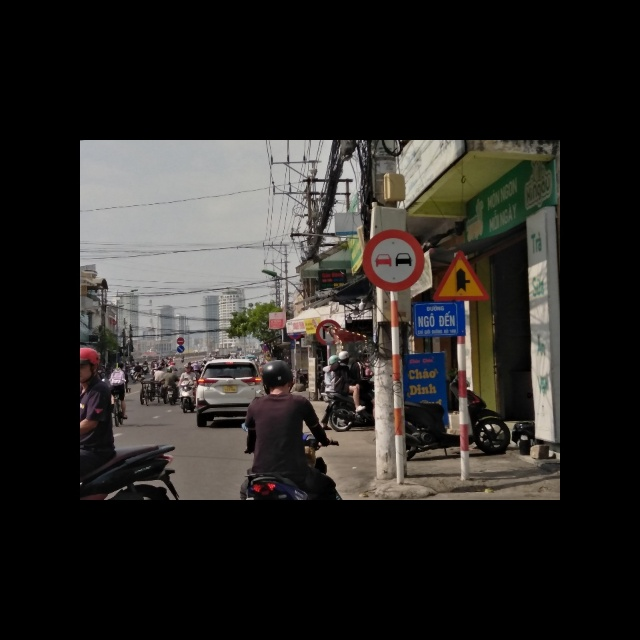Cấm vượt: (363, 230, 424, 292)
Giao nhau với đường không ưu tiên: (432, 249, 490, 302)
